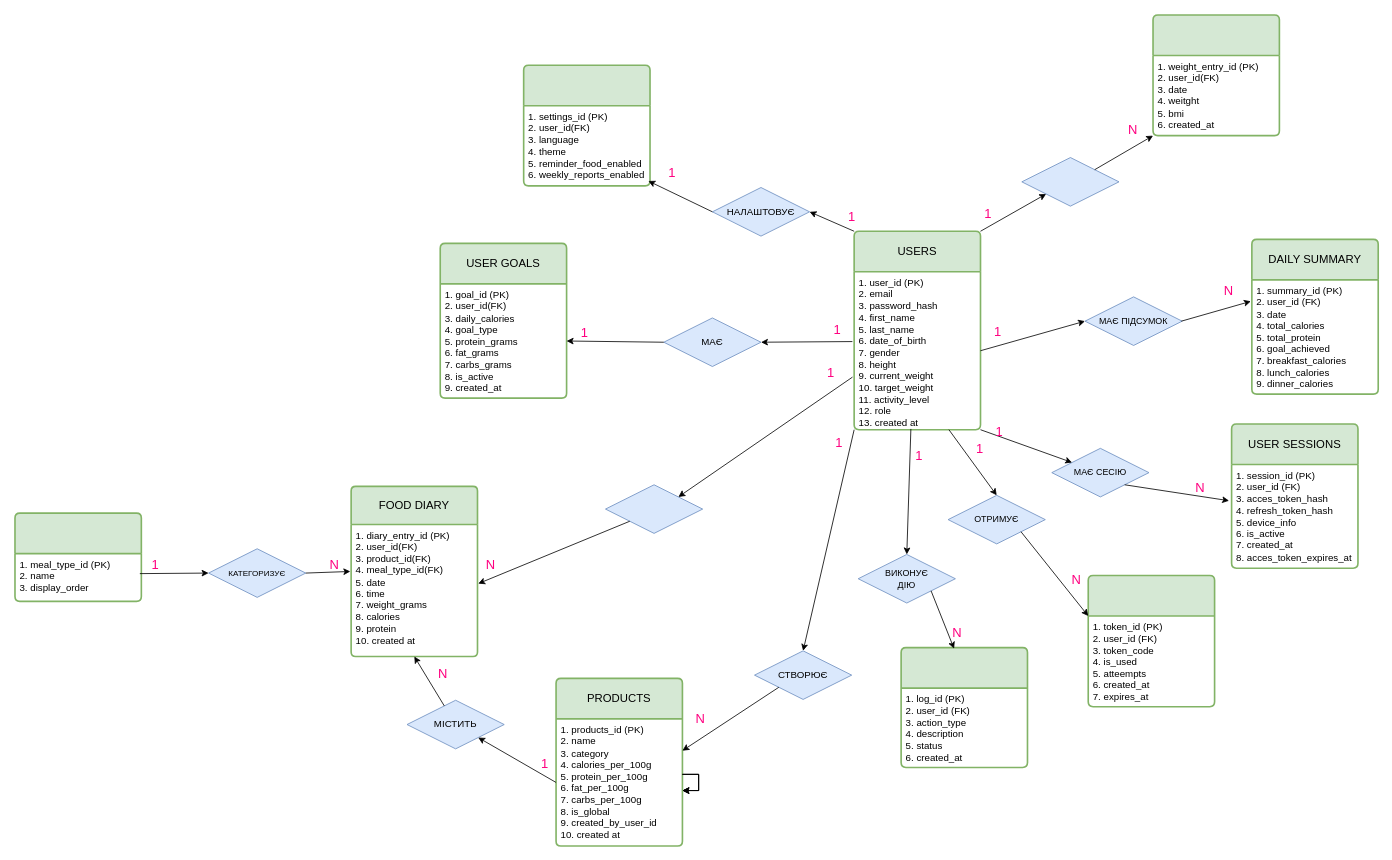
Some shapes in this 1392 by 860 pixel diagram are drawn without their labels. The box of each missing label's shape, as (x1, y1, x2, y2) in pixels:
ACTIVITY LOG: (900, 646, 1028, 768)
MEAL TYPES: (14, 512, 142, 602)
PASSWORD RESET TOKENS: (1087, 574, 1215, 707)
USER SETTINGS: (522, 64, 650, 186)
WEIGHT HISTORY: (1152, 14, 1280, 136)
ЗАПИСУЄ: (605, 484, 703, 533)
ФІКСУЄ: (1021, 157, 1119, 206)
